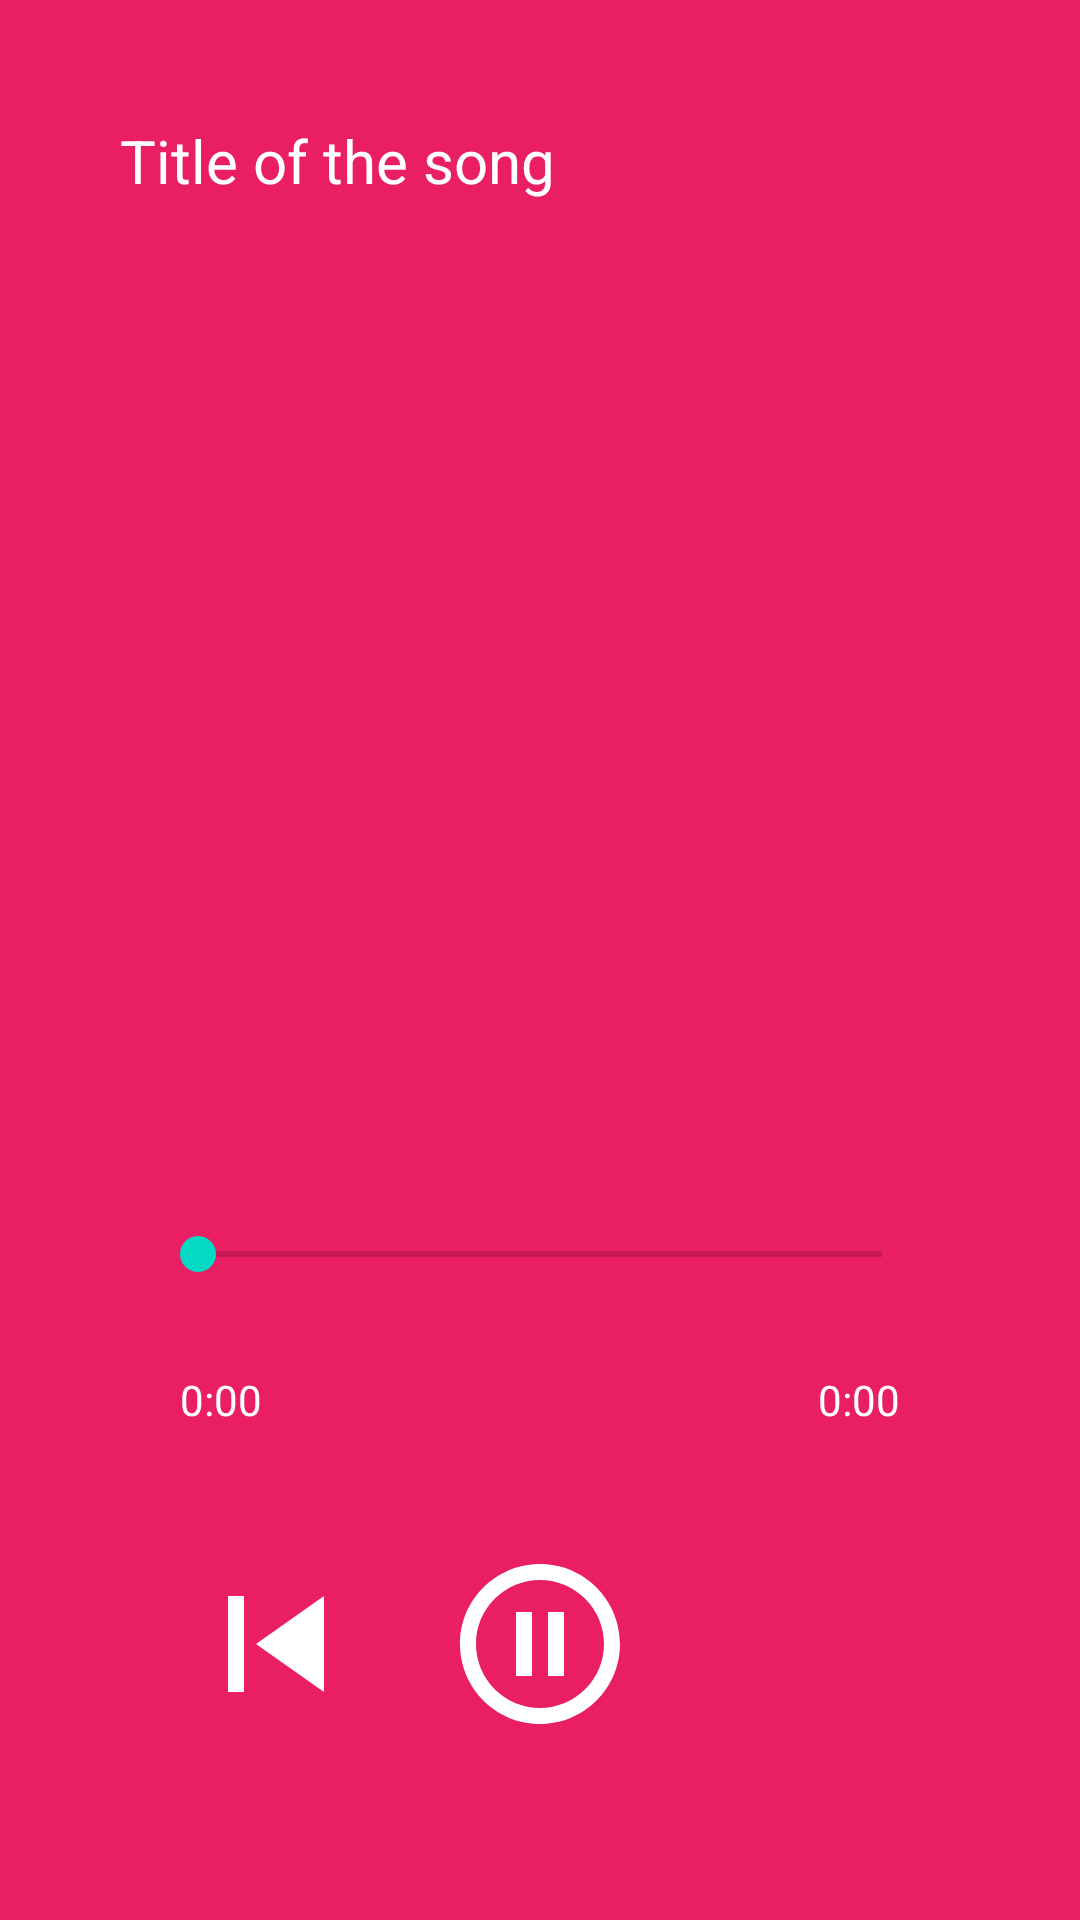

Icon click points for this 1080 x 1920 phone screenshot, format point (x, y):
pause circle: point (540, 1644)
skip previous: point (276, 1644)
